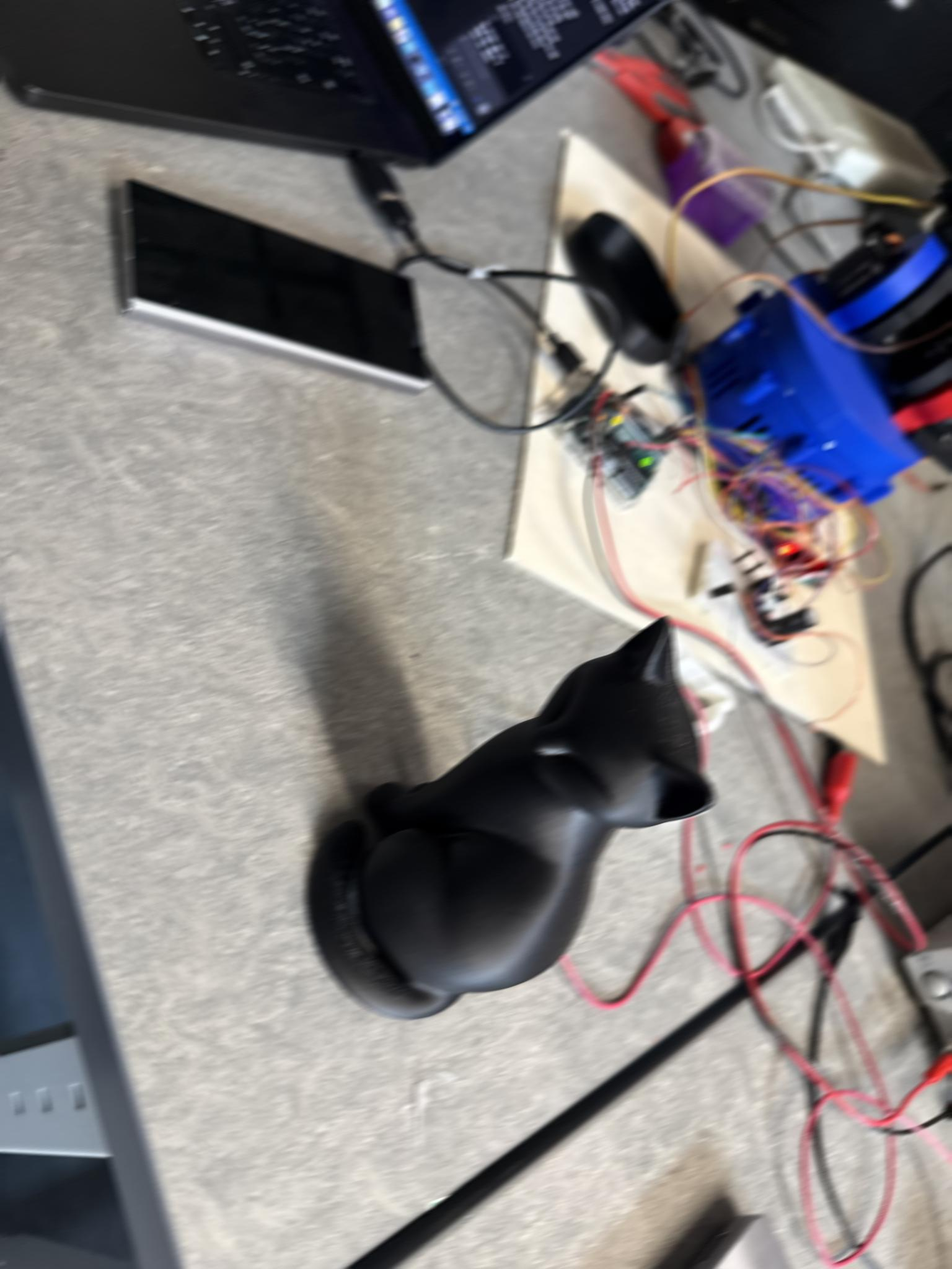cat: (304, 618, 714, 1019), (304, 614, 691, 1035)
